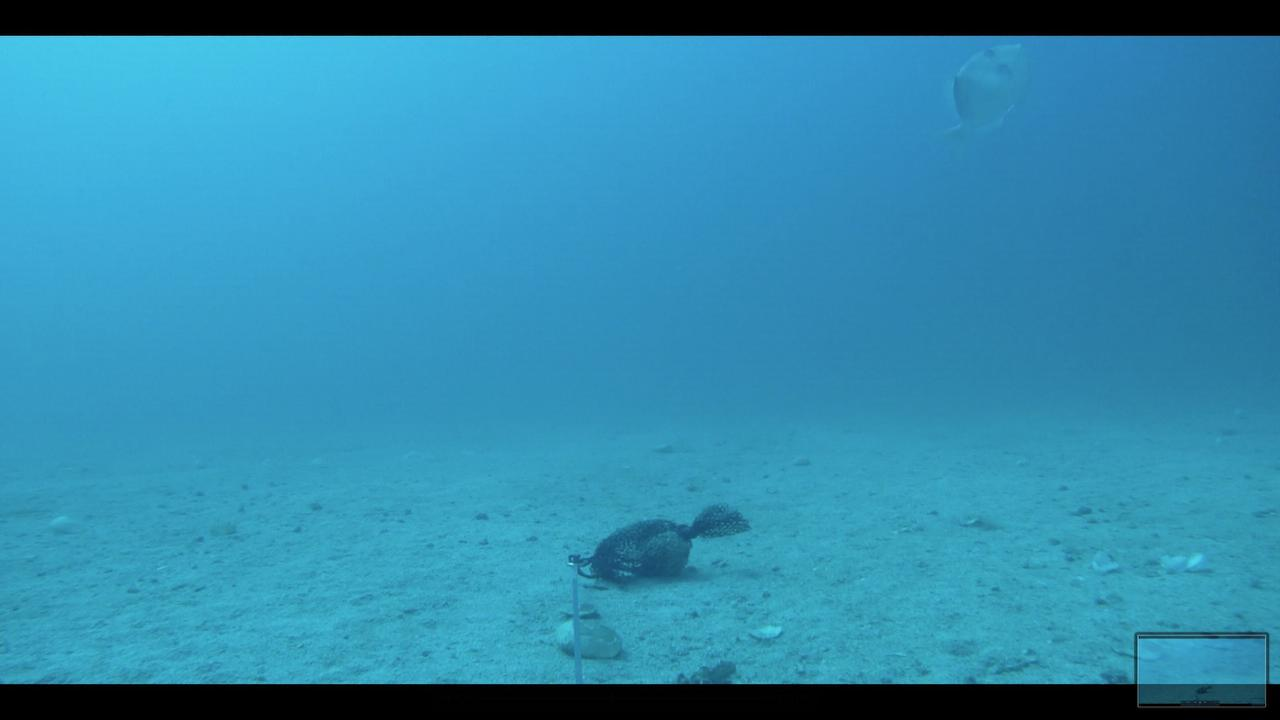balistes: (931, 40, 1031, 172)
